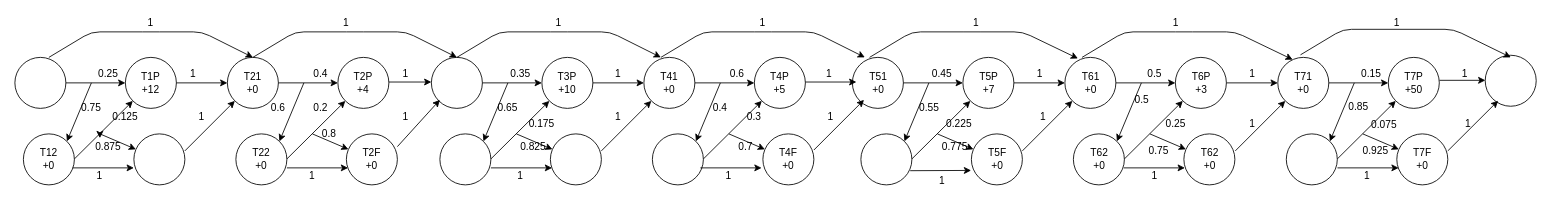
The diagram is 1551 pixels wide and 203 high, and some of its shapes have lost their labels. Here are the shapes that lost their labels. From the top down, the box of each, then its label:
(14, 57, 66, 108): T11 +0
(431, 57, 482, 108): T31 +0
(1484, 54, 1536, 106): Final
(133, 133, 185, 185): T1F +0
(439, 133, 491, 185): T32 +0
(550, 133, 601, 185): T3F +0
(652, 133, 703, 185): T42 +0
(860, 133, 912, 185): T52 +0
(1285, 133, 1337, 185): T72 +0
